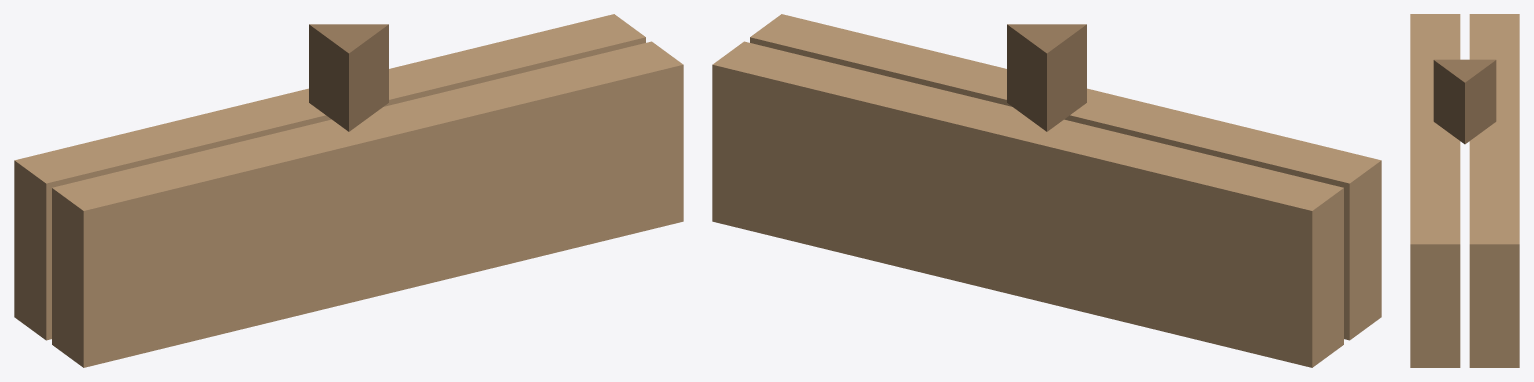
File: prop-scraper-card-holder-cs3.fbx
3 renders of one model, left to right at view 1: azimuth 30°, elevation 25°; view 2: azimuth 150°, elevation 25°; view 3: azimuth 270°, elevation 25°, orthographic. The views are drawn at different scales.
Visible parts, largest first — view 1: prop-scraper-card-holder-cs3; view 2: prop-scraper-card-holder-cs3; view 3: prop-scraper-card-holder-cs3.
Part boxes in pixels (x1,y1,x2,y2): prop-scraper-card-holder-cs3: (14,14,683,367); prop-scraper-card-holder-cs3: (712,14,1381,367); prop-scraper-card-holder-cs3: (1410,14,1519,367).
Size of the model in its own units: 12 by 4.5 by 2.4.
